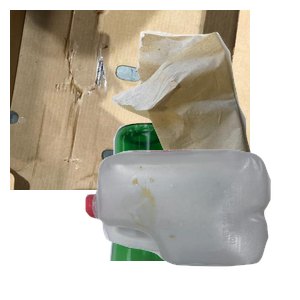cardboard: (10, 10, 250, 190)
glass: (107, 120, 278, 300)
plastic: (83, 147, 300, 300)
trash: (109, 28, 300, 208)
